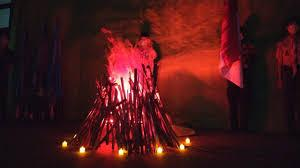fire: (97, 36, 163, 97), (179, 136, 192, 151), (154, 145, 164, 155), (78, 144, 87, 155), (117, 146, 126, 157), (60, 138, 69, 148)
